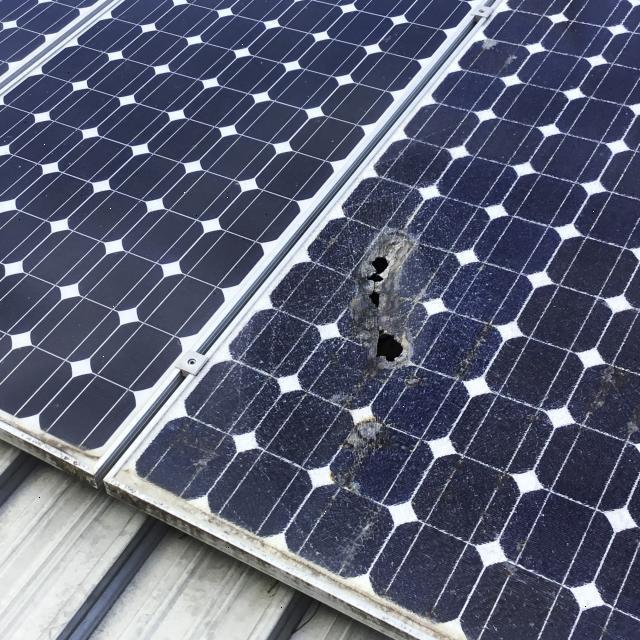Anomaly Solar Panel: (120, 0, 639, 640)
Normal Solar Panel: (0, 0, 485, 454), (1, 0, 109, 82)
Structural Damage: (338, 219, 420, 374), (310, 401, 399, 501), (580, 362, 640, 437), (449, 312, 497, 376)
